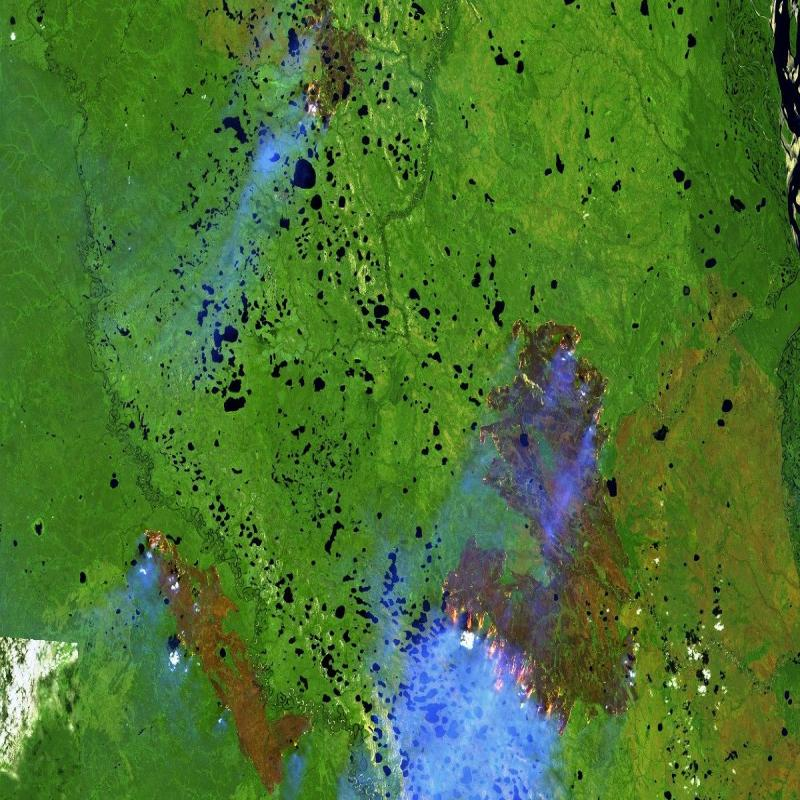fire: (419, 569, 591, 758), (468, 290, 617, 501), (115, 513, 218, 657), (274, 34, 354, 142)
